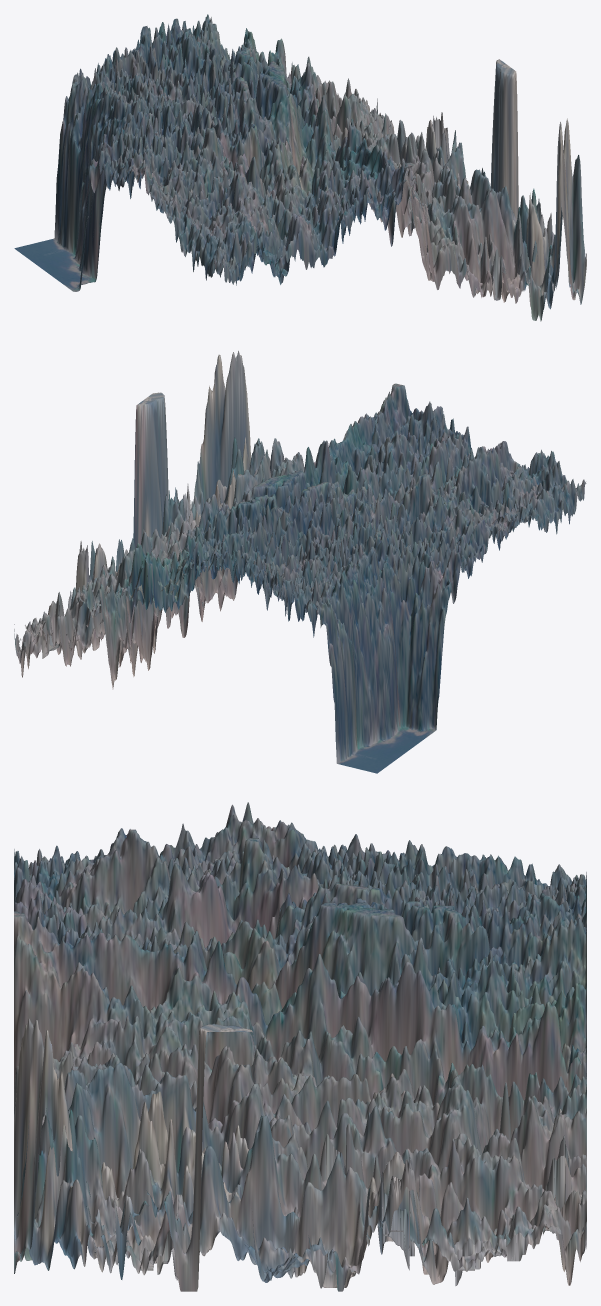
File: dsm_71c28f67eb_mesh.glb
3 views of the same model, one above another, from view 1: azimuth 30°, elevation 25°; view 2: azimuth 150°, elevation 25°; view 3: azimuth 270°, elevation 25° (orthographic). The views are drawn at different scales.
Visible parts, largest first — view 1: geometry_0; view 2: geometry_0; view 3: geometry_0.
Part boxes in pixels (bbox=[...]): geometry_0: bbox=[14, 14, 586, 321]; geometry_0: bbox=[14, 350, 586, 773]; geometry_0: bbox=[14, 802, 586, 1291].
Bounding box in the file's own units: 2 × 1 × 2.
